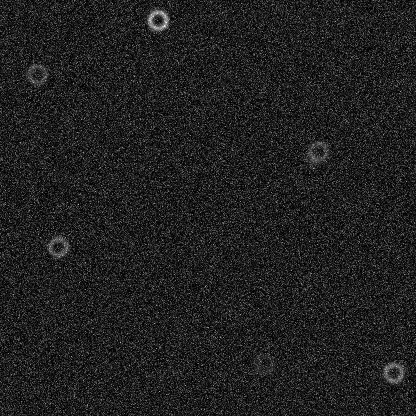Ring: (145, 7, 169, 31), (306, 139, 330, 163), (252, 352, 276, 376), (45, 234, 69, 258), (381, 360, 405, 384), (25, 62, 49, 86)
Spot: (304, 152, 320, 168)
